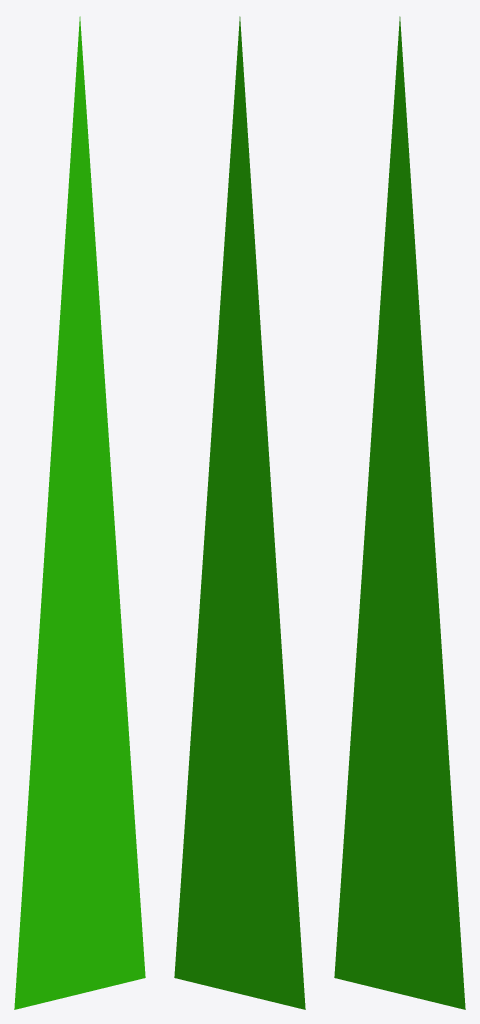
The model's file is straw.glb.
The picture shows the model from 3 angles, left to right: view 1: azimuth 30°, elevation 25°; view 2: azimuth 150°, elevation 25°; view 3: azimuth 330°, elevation 25°; orthographic projection.
Parts seen in each view (by area): view 1: Plane; view 2: Plane; view 3: Plane.
Part boxes in pixels (x1,y1,x2,y2): Plane: [14, 16, 145, 1009]; Plane: [174, 16, 305, 1009]; Plane: [334, 16, 465, 1009].
Size of the model in its own units: 0.1402 by 1 by 0.
